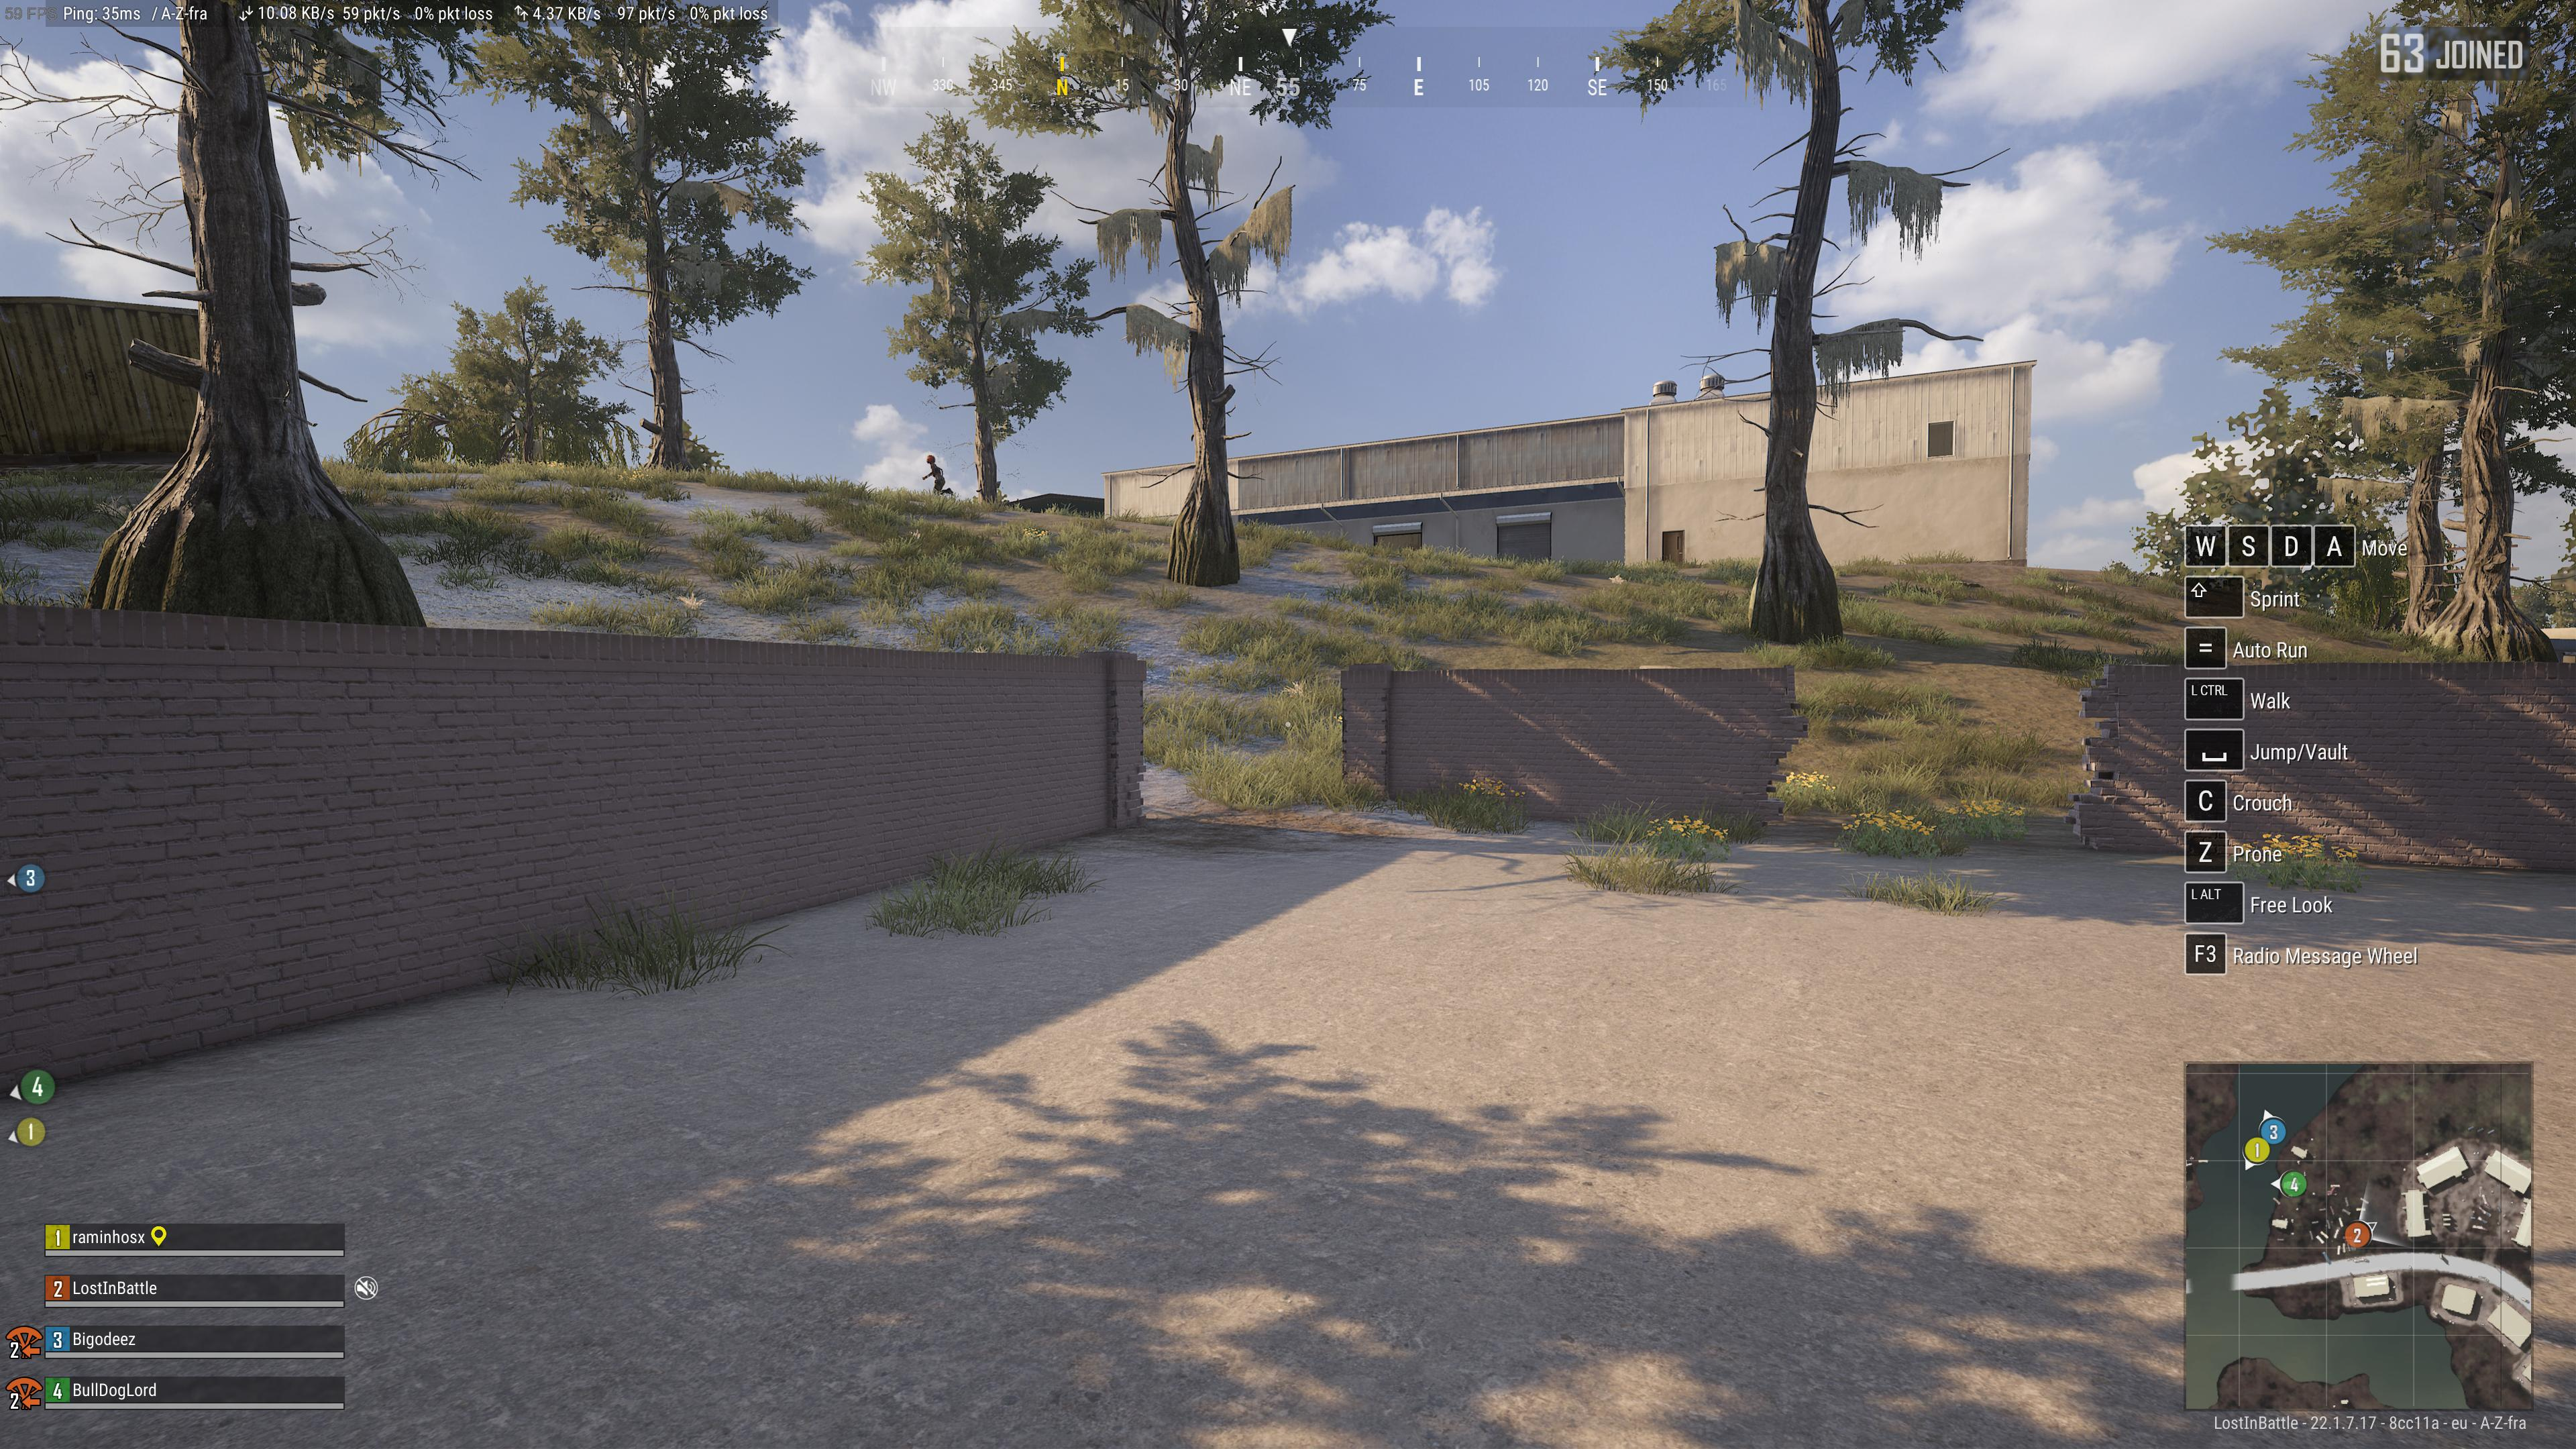enemy: (922, 453, 954, 495)
enemy_head: (925, 455, 936, 464)
